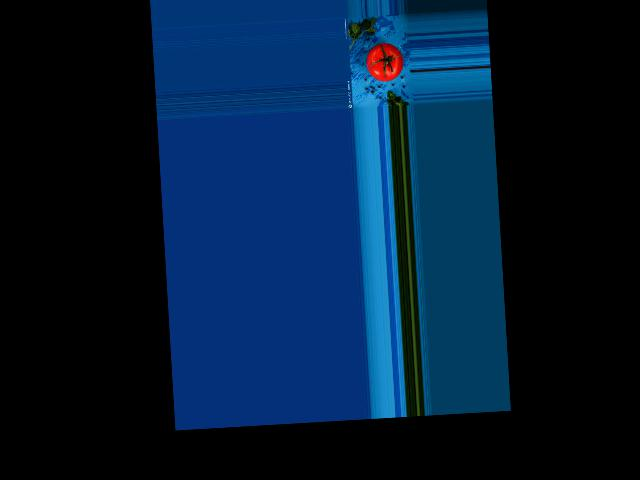tomato: (365, 41, 404, 82)
